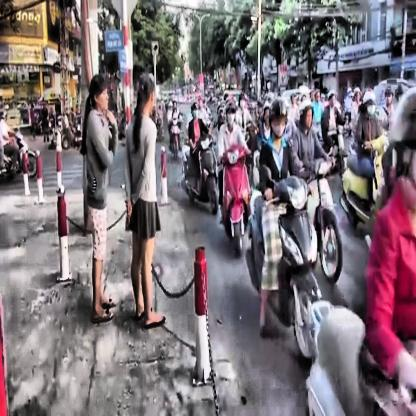not_wear: (137, 72, 156, 113), (90, 74, 110, 111)
wear: (269, 96, 287, 137), (299, 99, 314, 130), (362, 90, 376, 115), (225, 102, 237, 126), (384, 85, 394, 105), (190, 101, 200, 119)
